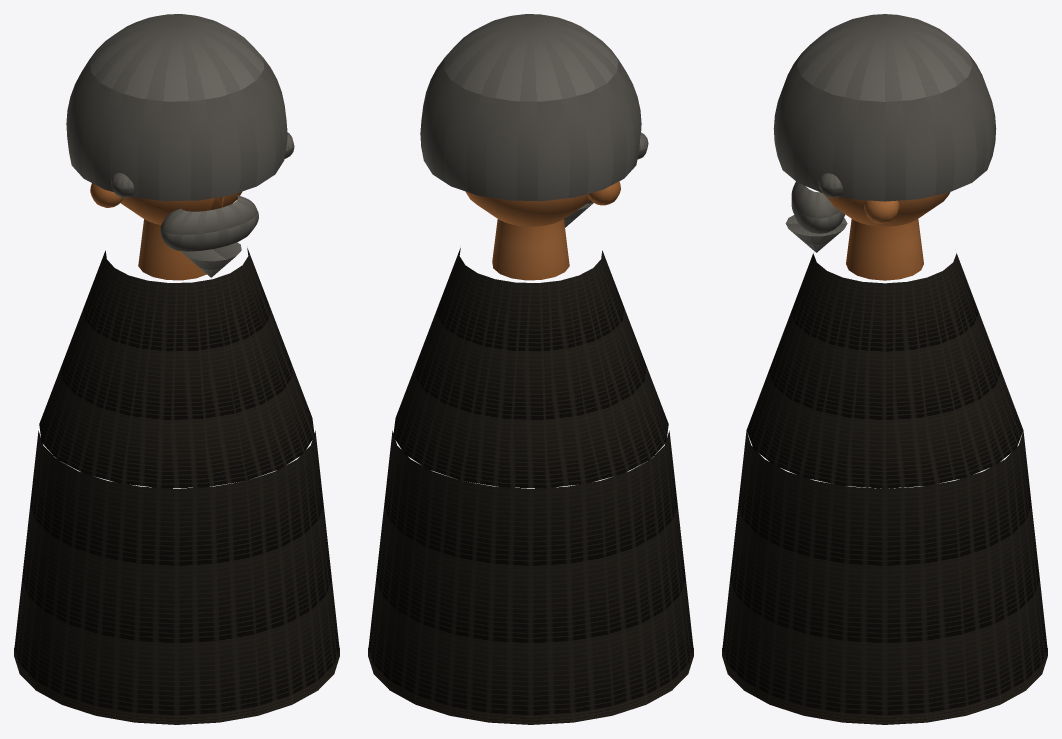
The model's file is nathanael_disciple.glb.
3 views of the same model, side by side, from view 1: azimuth 30°, elevation 25°; view 2: azimuth 150°, elevation 25°; view 3: azimuth 270°, elevation 25° (orthographic).
Visible parts, largest first — view 1: Character_nathanael_the_disciple, head; view 2: Character_nathanael_the_disciple, head; view 3: Character_nathanael_the_disciple, head.
Boxes of the visible parts, x1,y1,x2,y2 form: Character_nathanael_the_disciple: (14,14,339,724); head: (120,191,242,224); Character_nathanael_the_disciple: (368,14,693,724); head: (465,191,590,226); Character_nathanael_the_disciple: (722,14,1047,724); head: (819,192,950,226).
Bounding box in the file's own units: 0.8408 × 1.8 × 0.8408.
8 materials, 4 textured.
